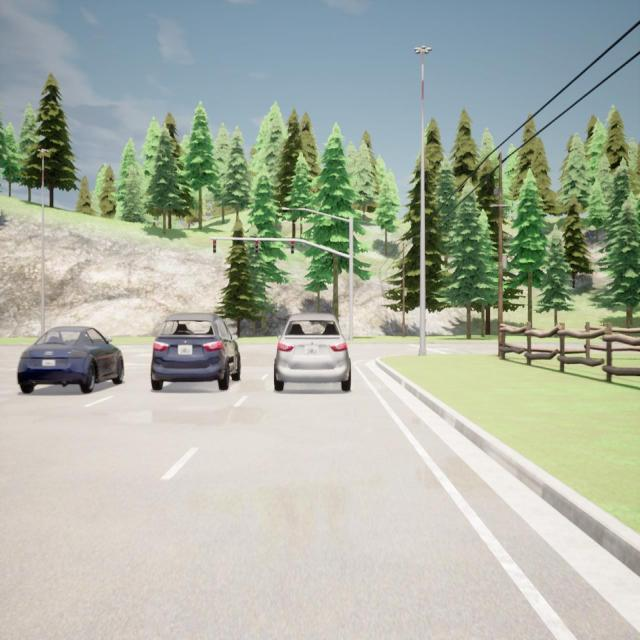Vehicle: (17, 326, 123, 393), (150, 313, 240, 390), (273, 313, 352, 392)
traffic_light: (212, 240, 216, 252), (291, 240, 294, 254), (255, 240, 258, 253)
